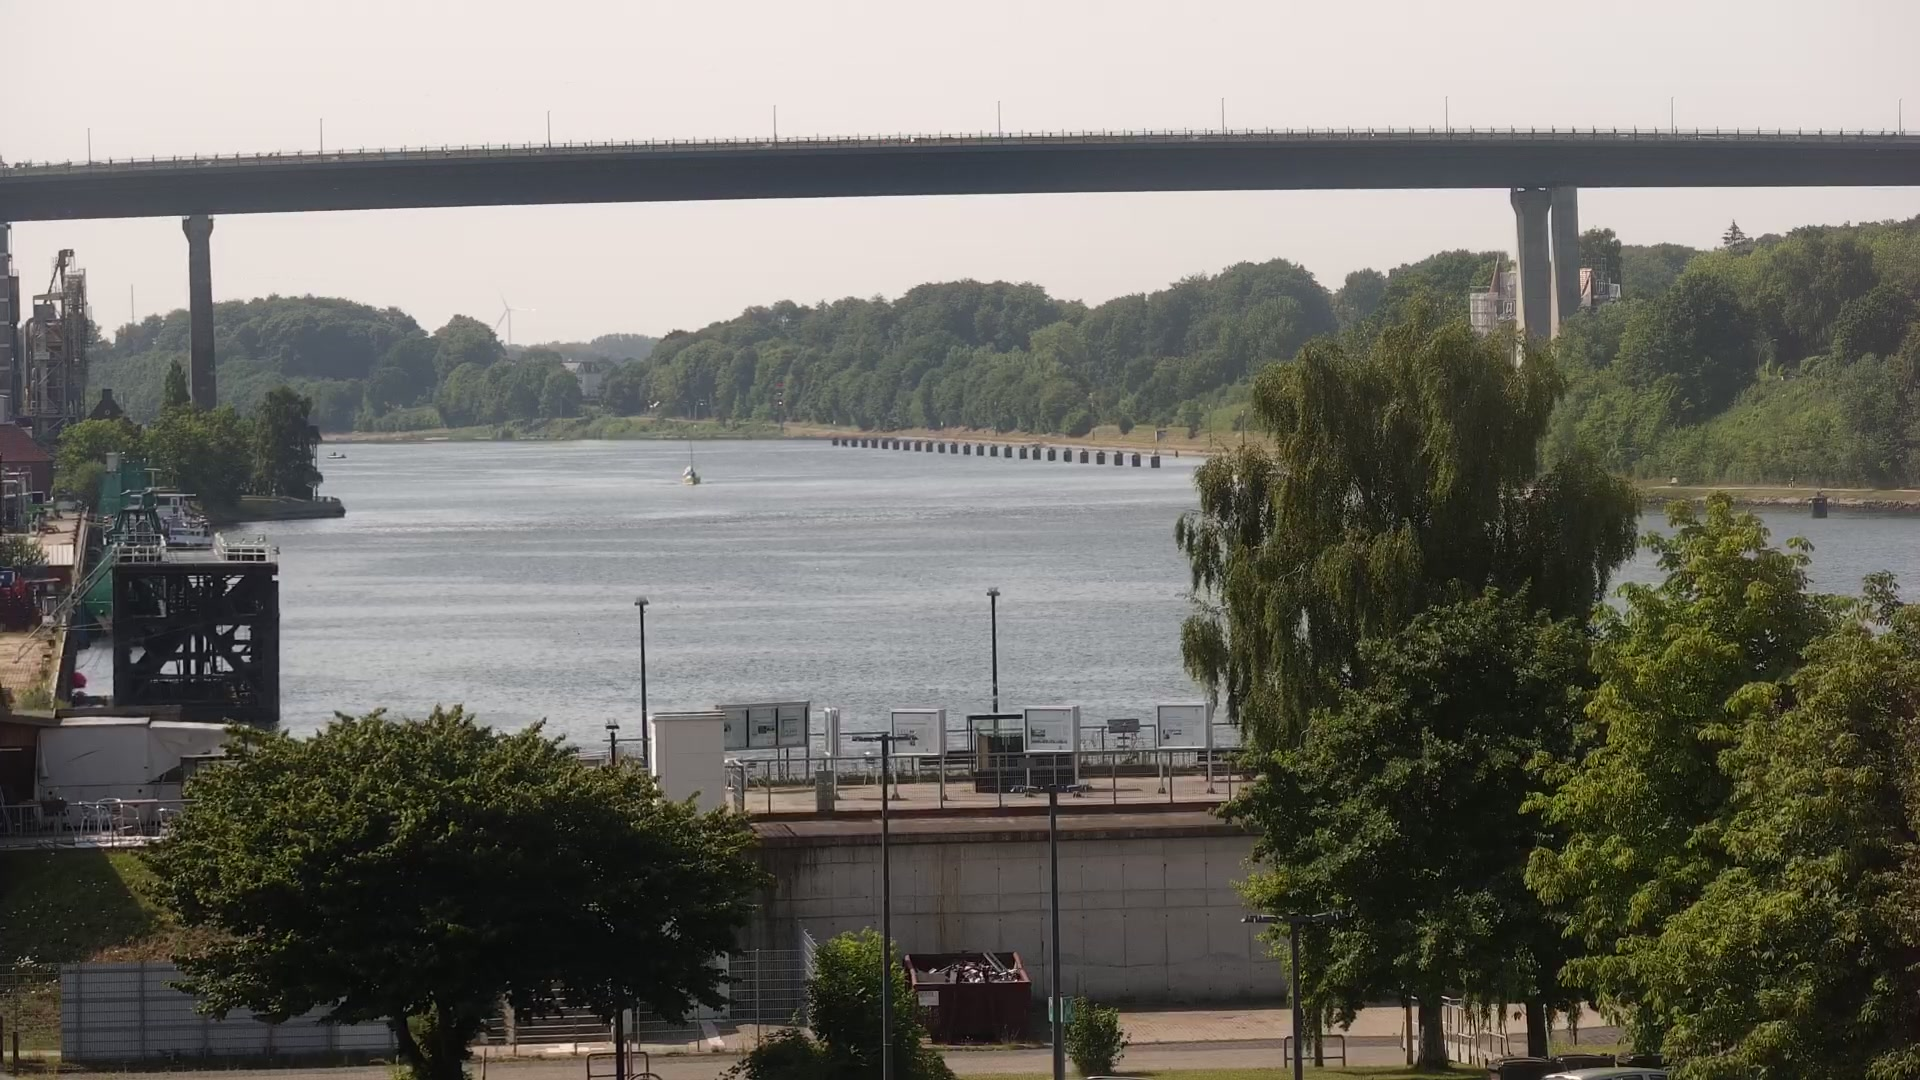land: (1539, 1067, 1669, 1079)
sea: (680, 429, 700, 485), (324, 448, 345, 458)
